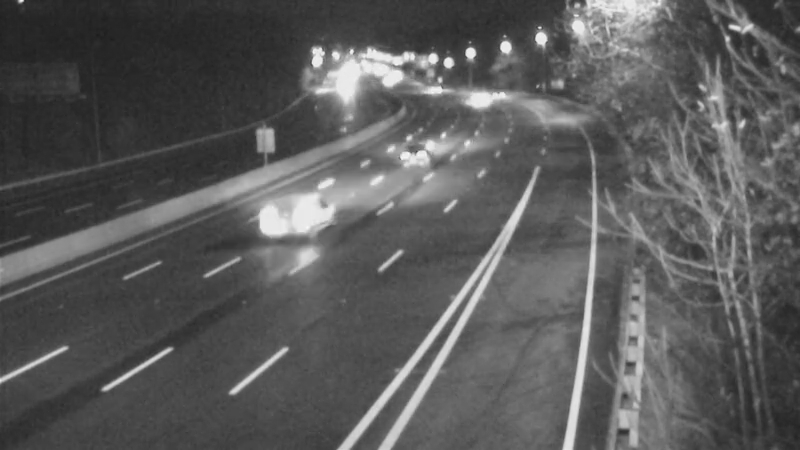vehicle: (384, 116, 464, 196), (254, 168, 334, 248), (410, 63, 460, 113), (471, 67, 521, 117), (447, 72, 497, 122)
